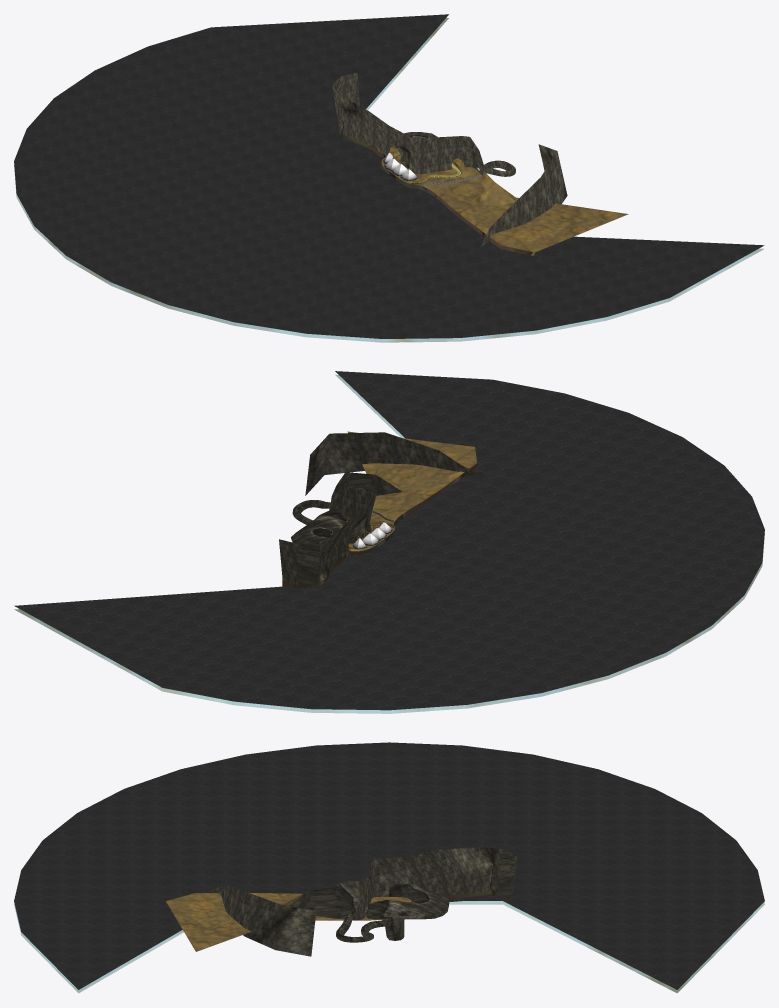
3 views of the same model, one above another, from view 1: azimuth 30°, elevation 25°; view 2: azimuth 150°, elevation 25°; view 3: azimuth 270°, elevation 25° (orthographic). The views are drawn at different scales.
Parts seen in each view (by area): view 1: Circle.001, Plane.003, Circle, Circle.002, Plane.002; view 2: Circle.001, Plane.003, Circle, Circle.002, Plane.002; view 3: Circle.001, Plane.003, Circle, Circle.002.
Part boxes in pixels (<box>): Circle.001: <box>14,14,764,338</box>; Plane.003: <box>332,72,567,247</box>; Circle: <box>390,146,628,252</box>; Circle.002: <box>14,18,763,342</box>; Plane.002: <box>339,130,534,256</box>; Circle.001: <box>14,371,764,710</box>; Plane.003: <box>279,432,484,584</box>; Circle: <box>346,431,476,547</box>; Circle.002: <box>14,374,764,713</box>; Plane.002: <box>282,463,477,588</box>; Circle.001: <box>14,742,764,989</box>; Plane.003: <box>208,847,516,956</box>; Circle: <box>166,892,411,951</box>; Circle.002: <box>14,901,764,993</box>.
Bounding box in the file's own units: 312152 × 36948 × 400000.
12 materials, 12 textured.
